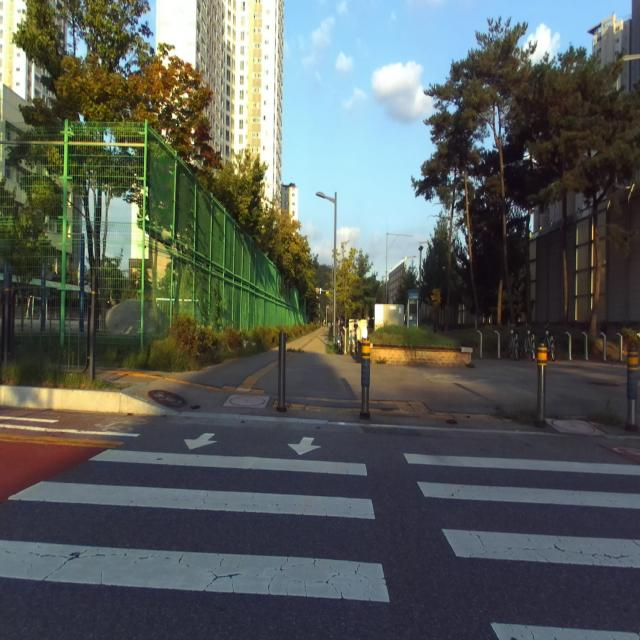횡단보도: (0, 433, 640, 640)
